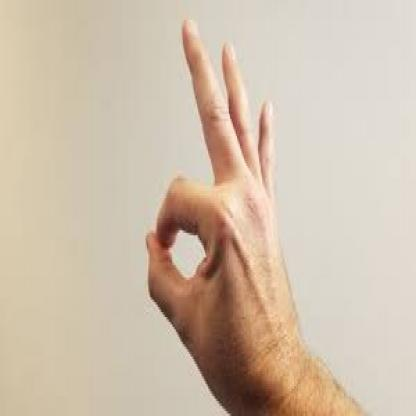ok: (144, 14, 276, 408)
